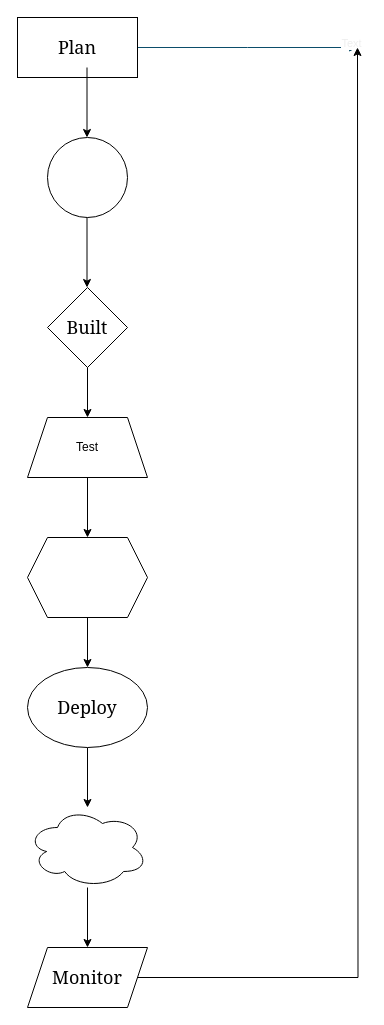
The diagram is 384 pixels wide and 1025 high, and some of its shapes have lost their labels. The shapes that lost their labels are listed below. From the top down, each one's centre as x and y in pixels, then its label:
the point at 87,177: Develop
the point at 87,577: Release
the point at 87,847: Operate
